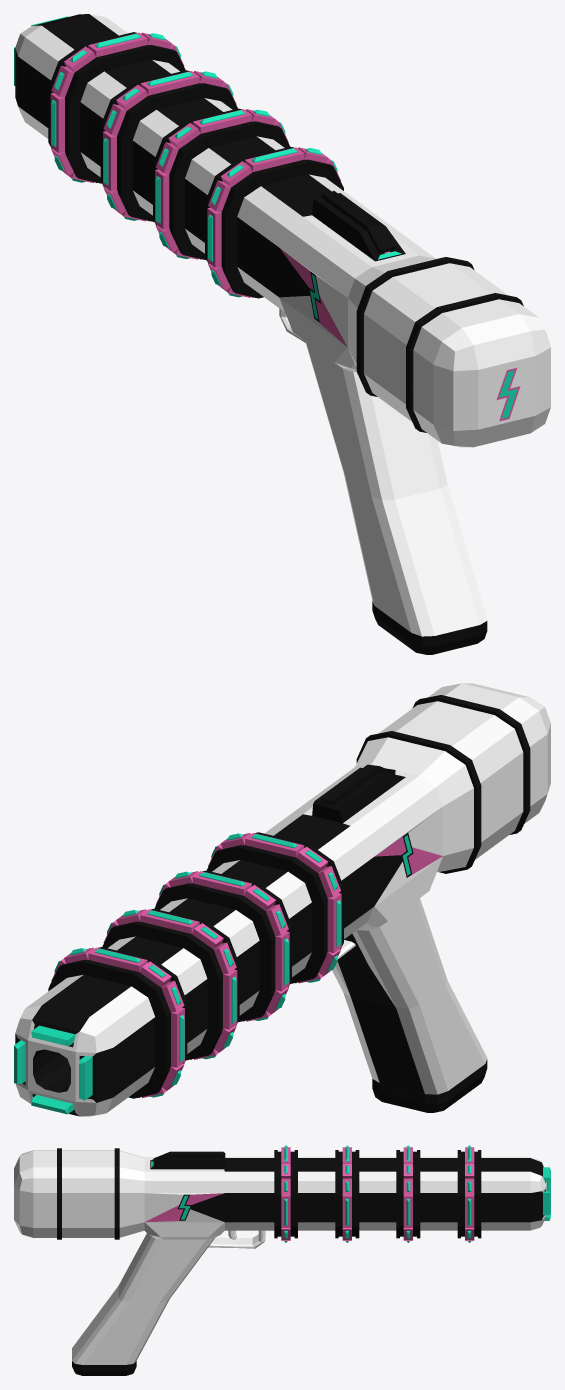
The model's file is laserrifle.fbx.
The picture shows the model from 3 angles, top to bottom: view 1: azimuth 30°, elevation 25°; view 2: azimuth 150°, elevation 25°; view 3: azimuth 270°, elevation 25°; orthographic projection. The views are drawn at different scales.
Parts seen in each view (by area): view 1: Cube, Cube.001; view 2: Cube, Cube.001; view 3: Cube, Cube.001.
Boxes of the visible parts, x1,y1,x2,y2 form: Cube: (14,14,550,636); Cube.001: (372,601,487,654); Cube: (14,683,550,1116); Cube.001: (372,1059,487,1112); Cube: (14,1145,550,1364); Cube.001: (72,1361,136,1375).
Size of the model in its own units: 28 by 74 by 167.
